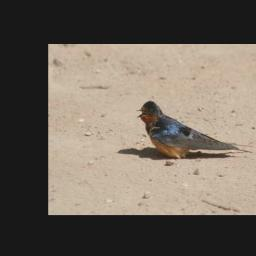Swallow: (136, 100, 252, 157)
